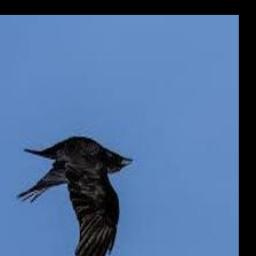Crow: (17, 138, 134, 256)
